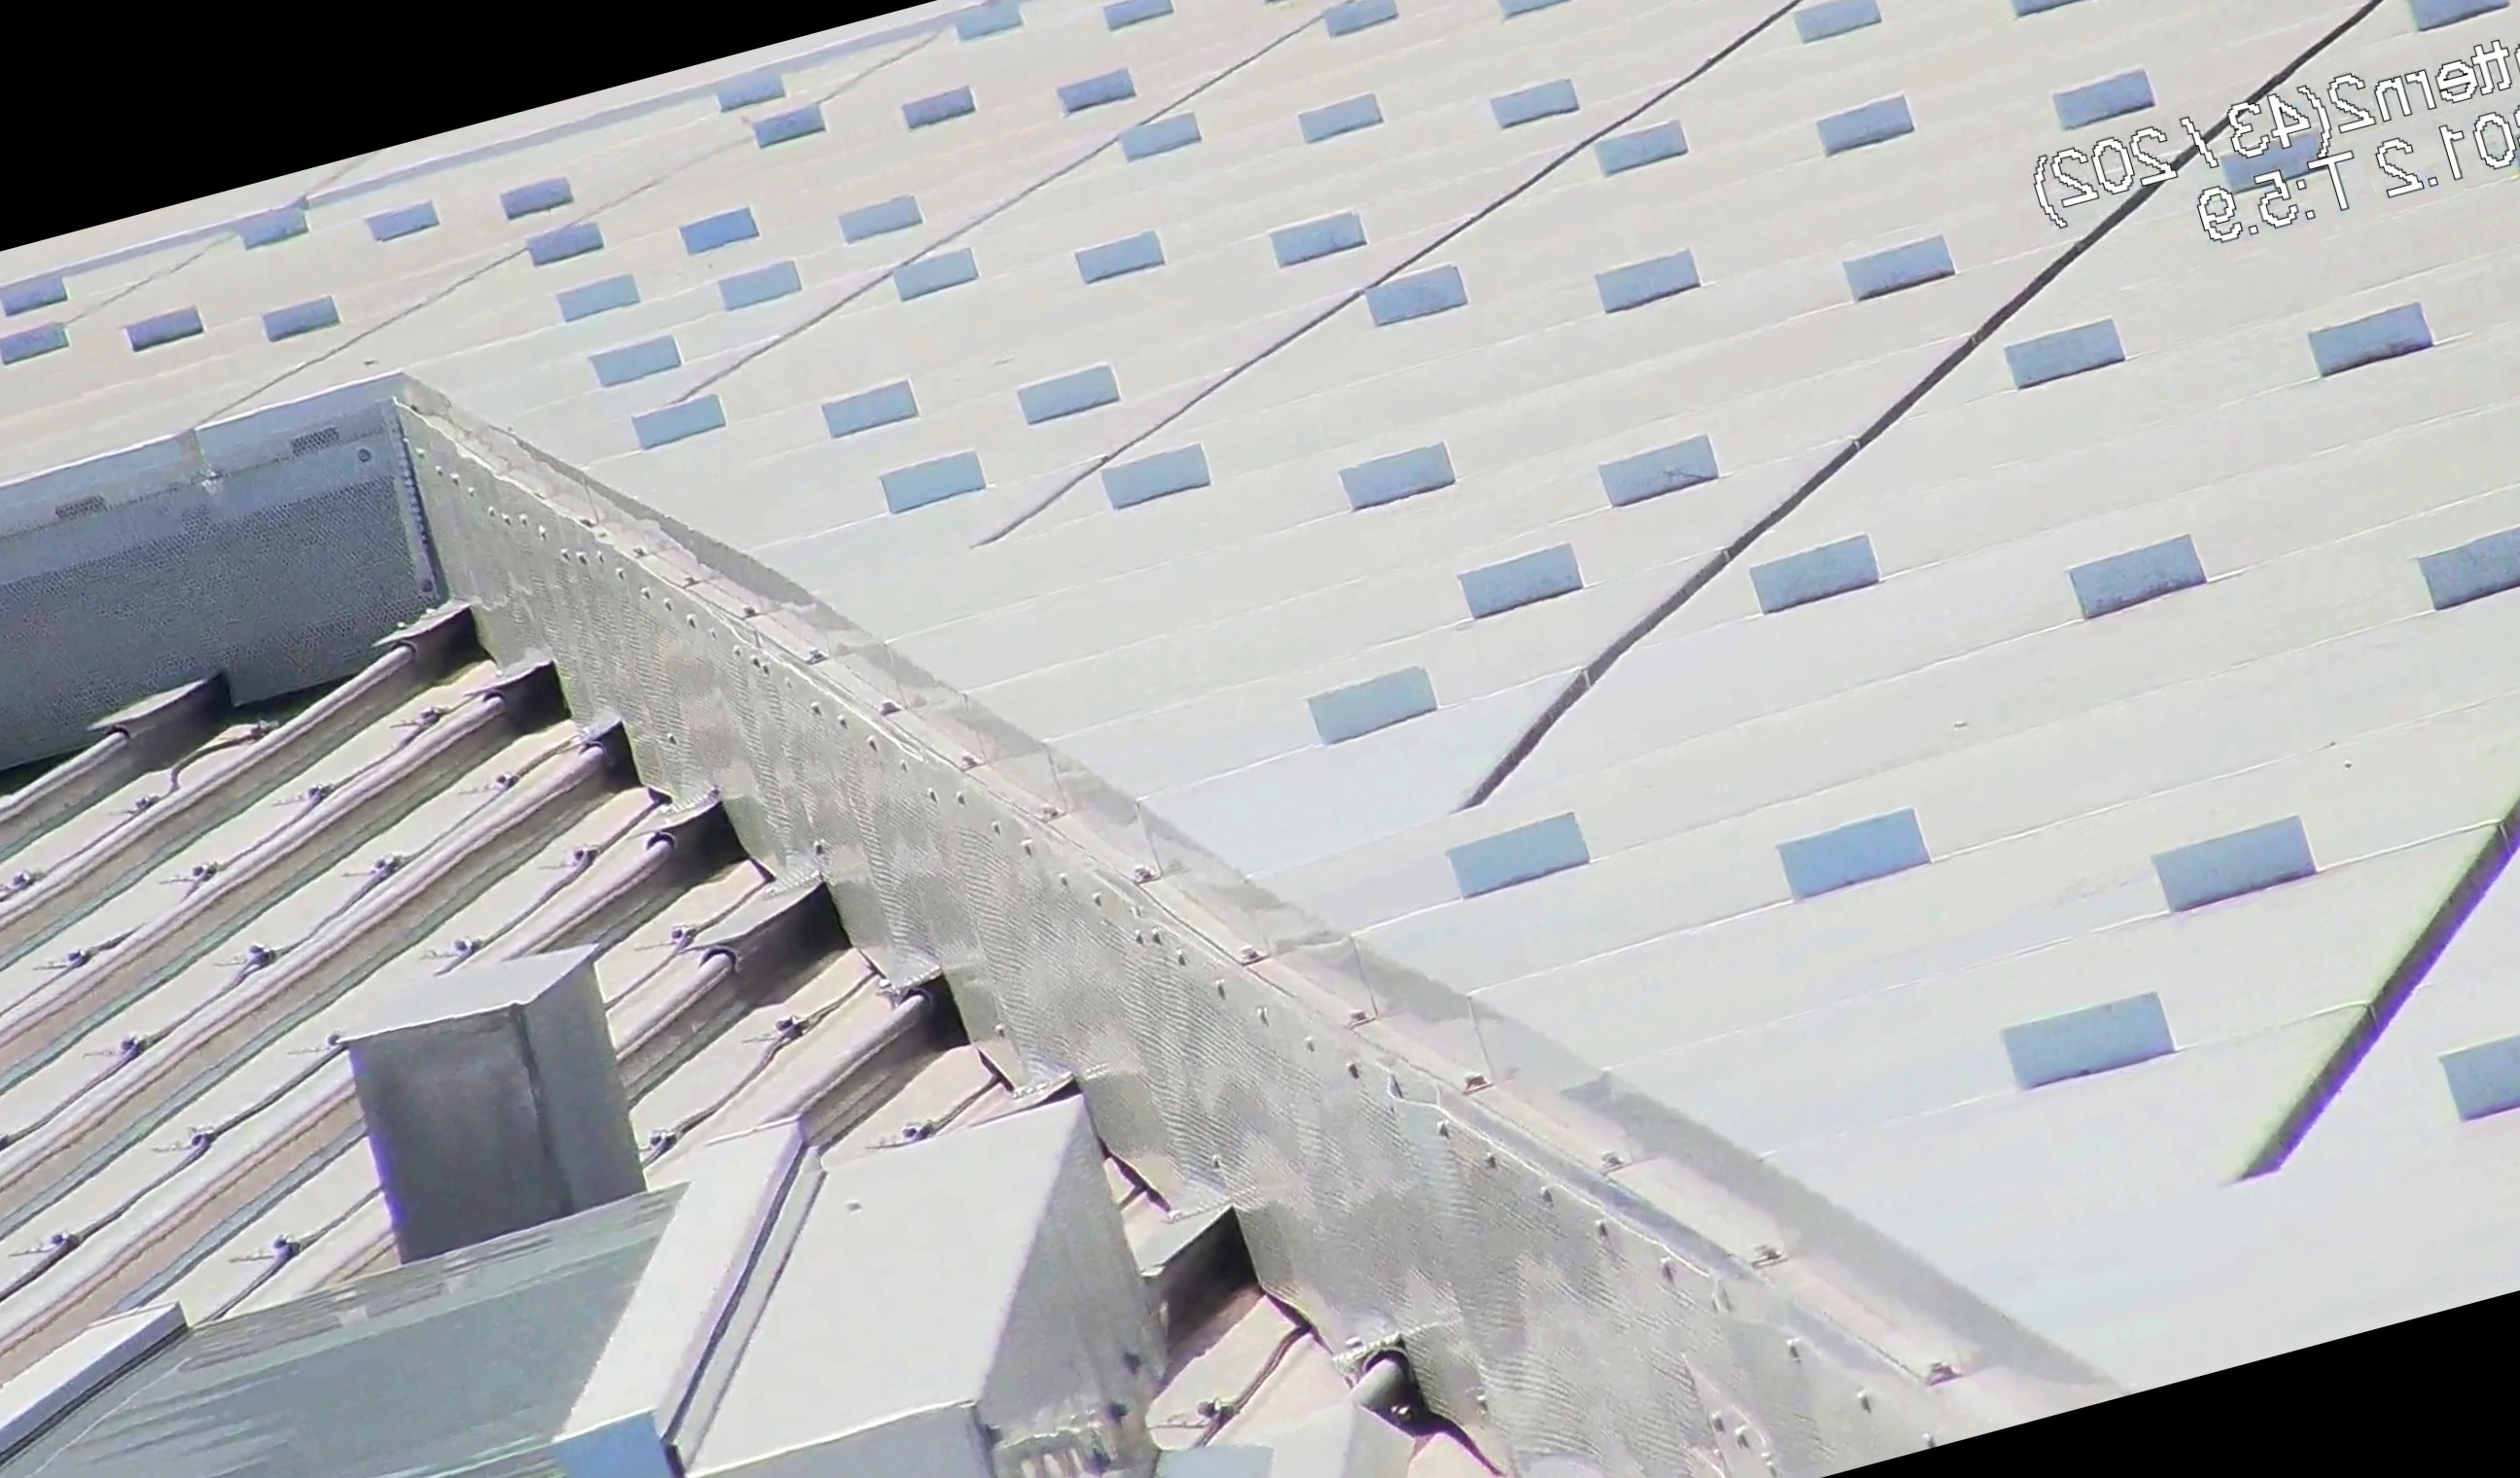Other: (1296, 1297, 1509, 1478)
